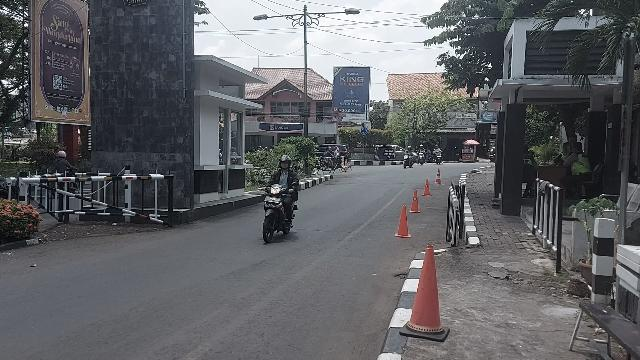helm: (280, 157, 292, 170)
motor: (262, 186, 298, 243)
